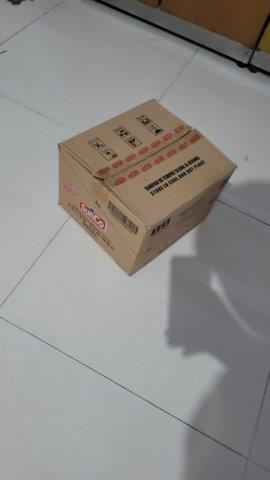kardus: (58, 100, 238, 275)
